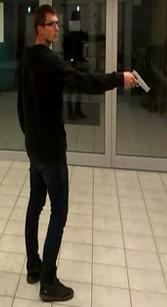pistol: (126, 68, 151, 94)
